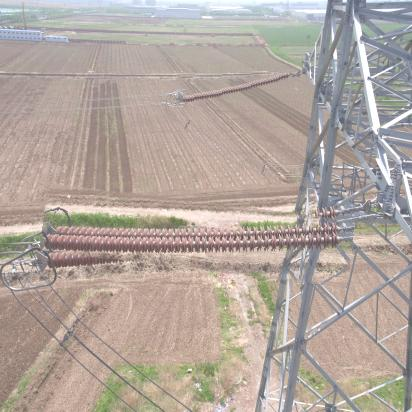insulator: (43, 194, 355, 280), (181, 73, 293, 103)
